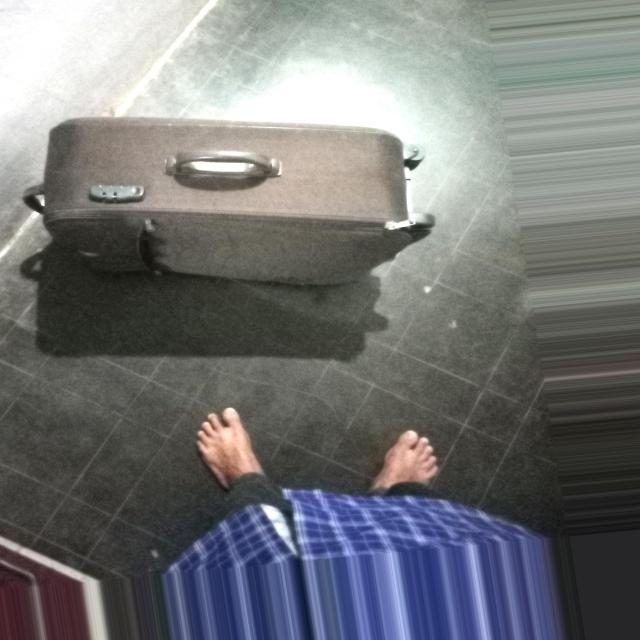Suitcase: (18, 102, 450, 294)
